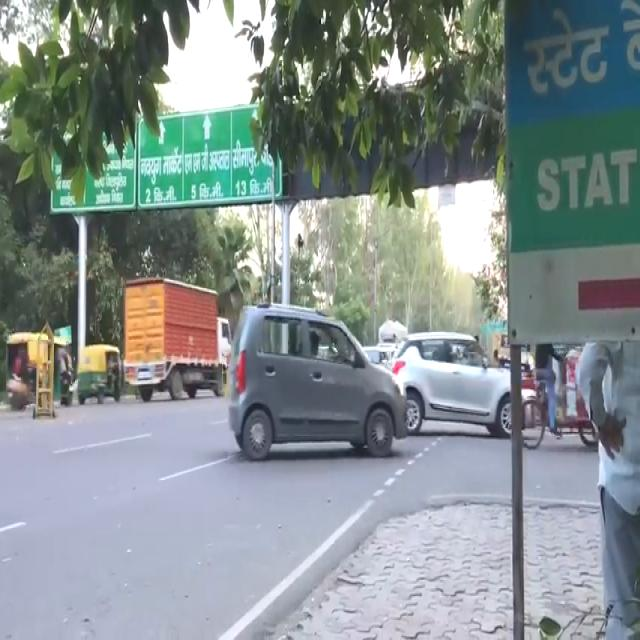TRUCK: (120, 275, 228, 404)
